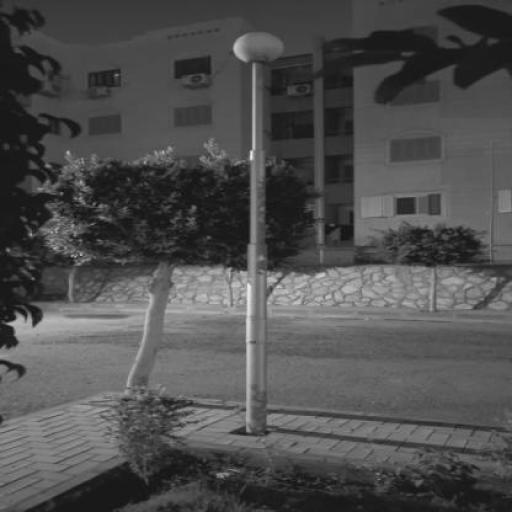street light: (232, 30, 286, 436)
